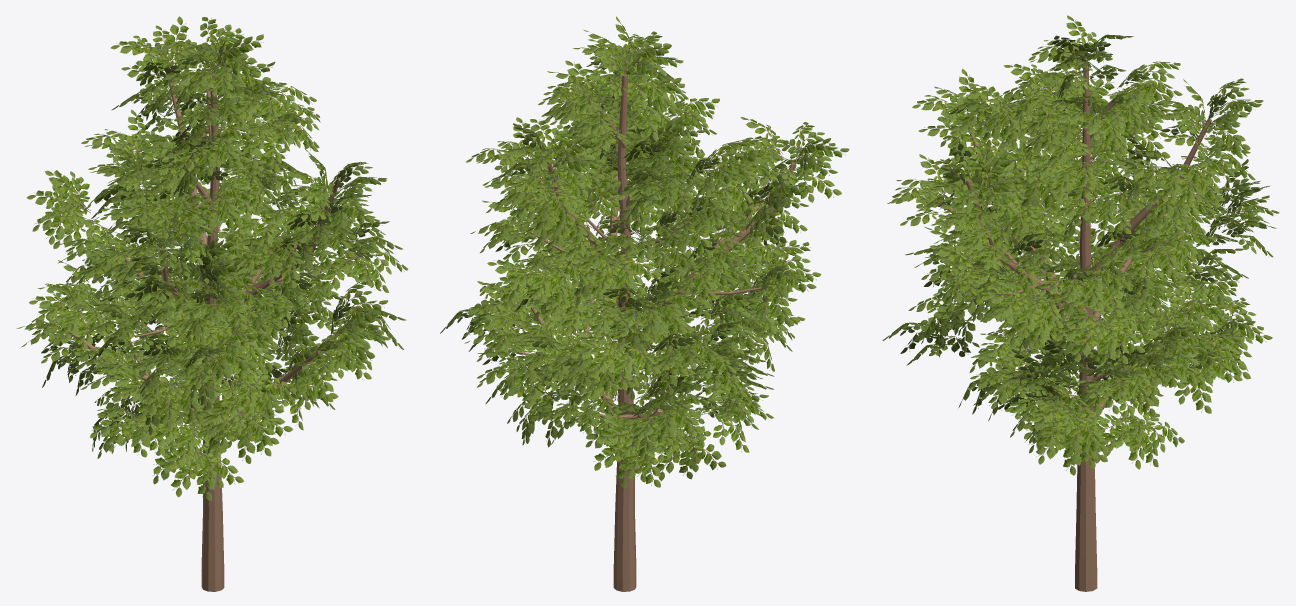
The model's file is Small Tree Test FBX.fbx.
The picture shows the model from 3 angles, left to right: view 1: azimuth 30°, elevation 25°; view 2: azimuth 150°, elevation 25°; view 3: azimuth 270°, elevation 25°; orthographic projection.
Visible parts, largest first — view 1: Leaves_Large135, pCylinder16; view 2: Leaves_Large135, pCylinder16; view 3: Leaves_Large135, pCylinder16.
Part boxes in pixels (bbox=[...]): Leaves_Large135: bbox=[16, 16, 408, 500]; pCylinder16: bbox=[69, 73, 359, 591]; Leaves_Large135: bbox=[440, 16, 849, 488]; pCylinder16: bbox=[509, 74, 795, 591]; Leaves_Large135: bbox=[882, 15, 1279, 475]; pCylinder16: bbox=[933, 66, 1214, 591].
Bounding box in the file's own units: 9.05 × 14.2 × 9.12.
Materials: 2 (1 with a texture image).
